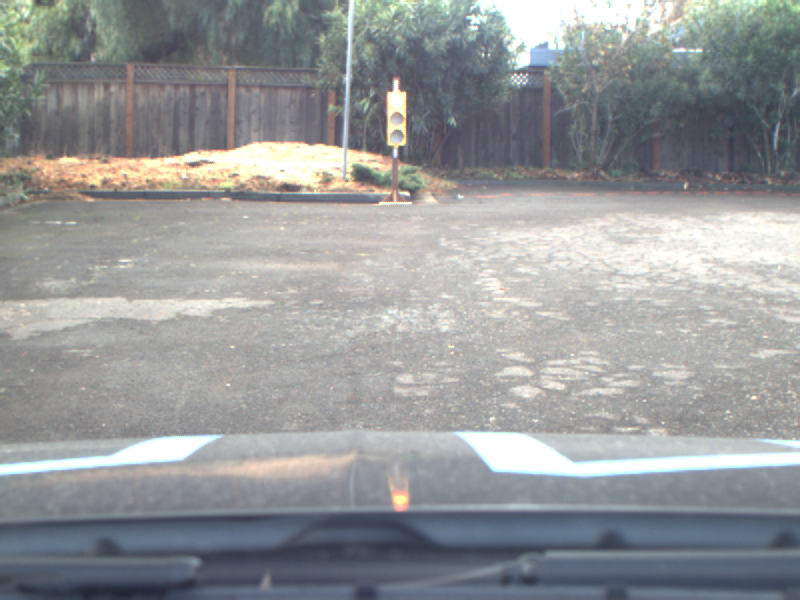Red: (385, 88, 406, 147)
